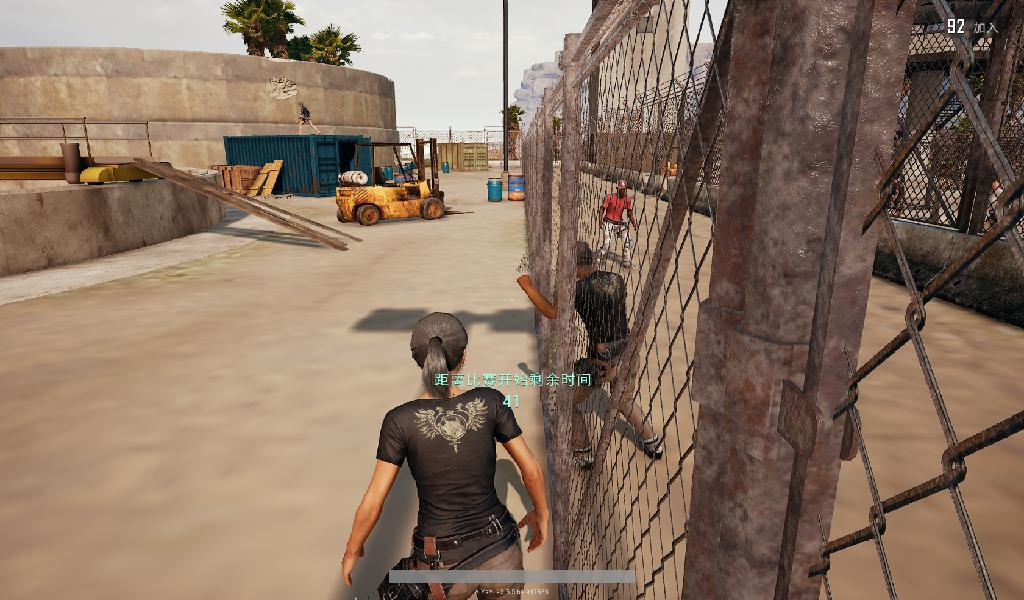Target Person: (342, 311, 553, 600), (517, 240, 665, 469), (596, 179, 631, 273), (295, 100, 320, 136)
